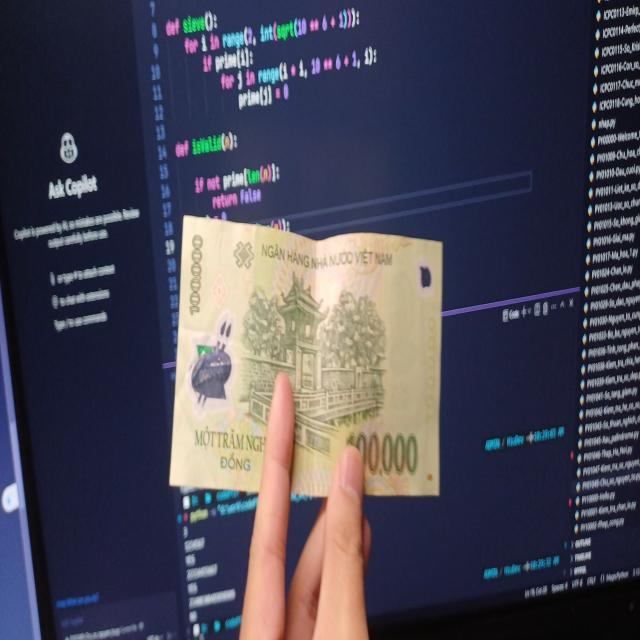100 000 VND: (166, 213, 450, 502)
